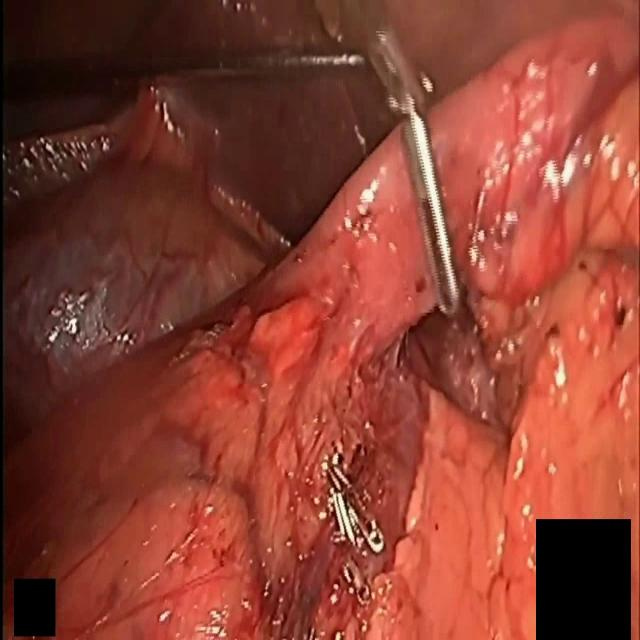surgical-area: (0, 1, 640, 639)
surgical-tool: (2, 30, 462, 321)
